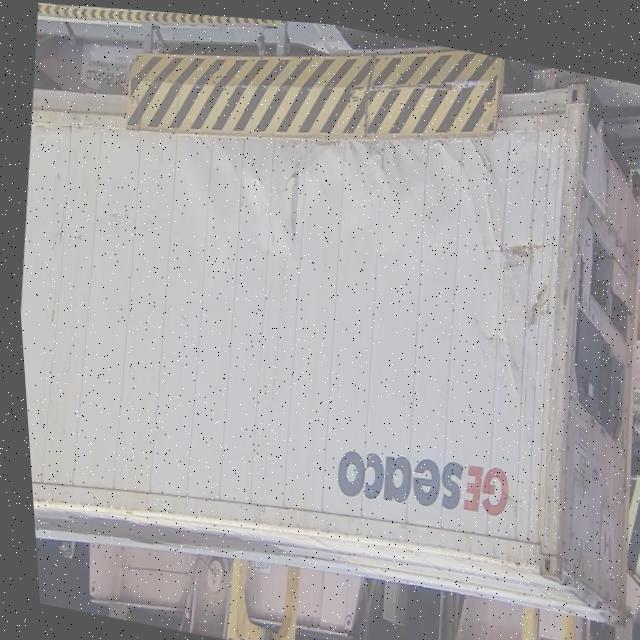rust: (509, 352, 589, 596)
